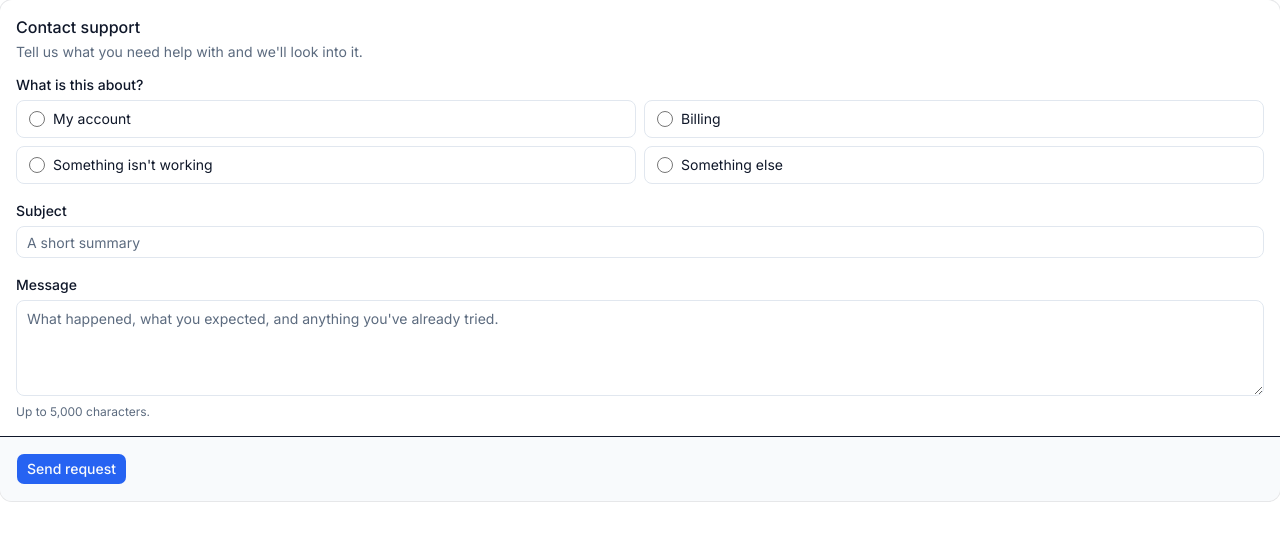
SupportRequestForm – validation errors from the server › moves focus to the field that needs fixing
Click the radio button labelled "Billing".
click(665, 119)  # box x1=657 y1=111 x2=673 y2=127
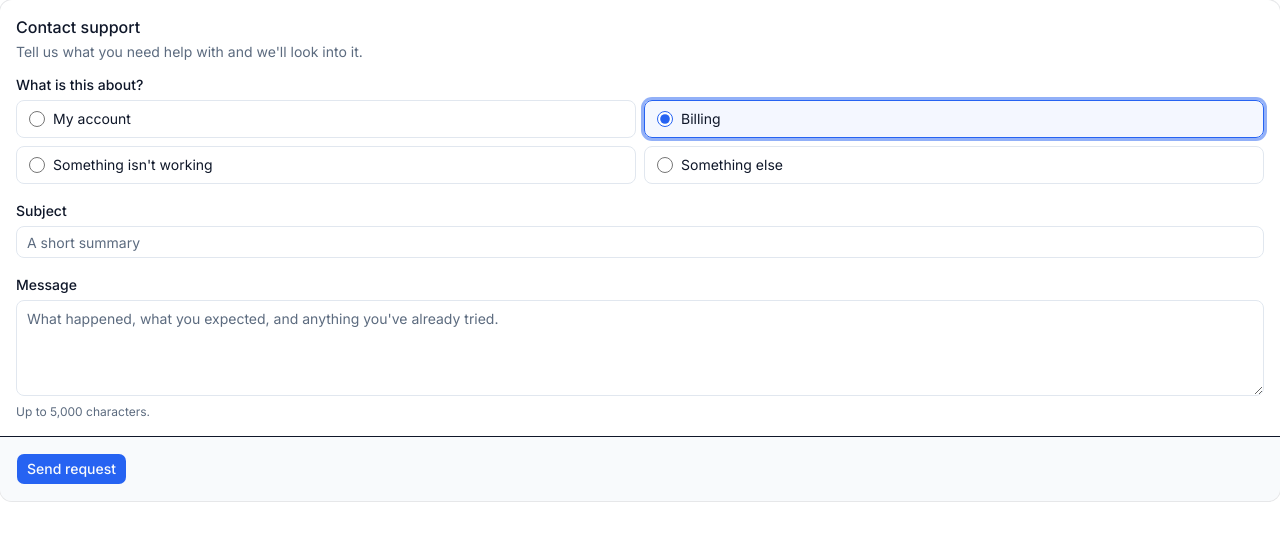
Type "Charged twice" into the field labelled "Subject".
click(640, 242); type("Charged twice")  # box x1=16 y1=226 x2=1264 y2=258
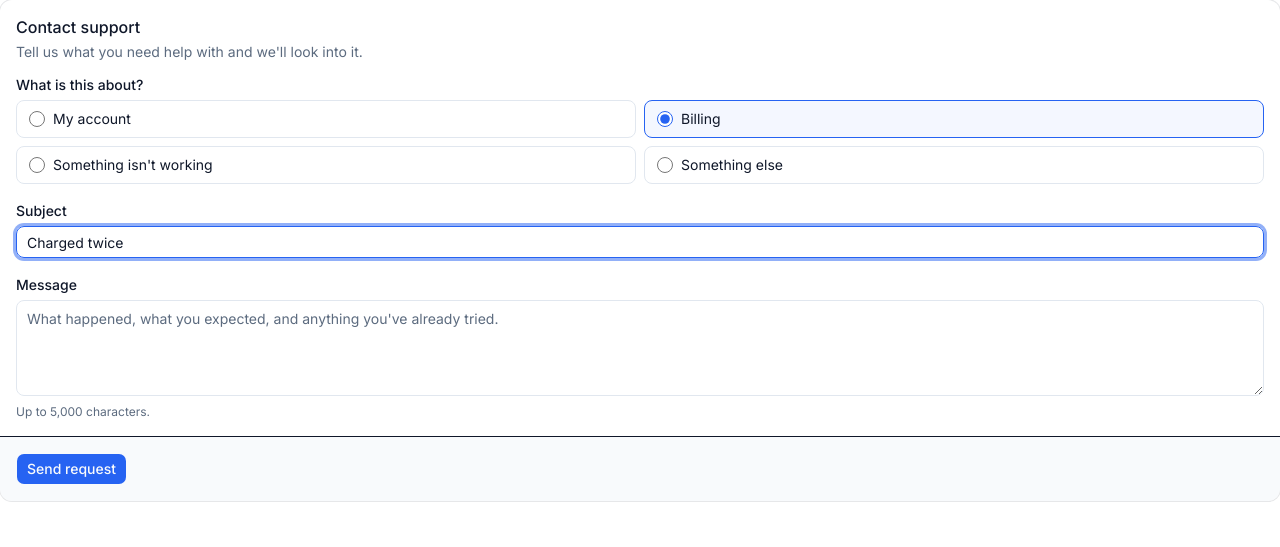
Replace the text in the text box labelled "Message" with "I see two charges." at [640, 348], box x1=16 y1=300 x2=1264 y2=396
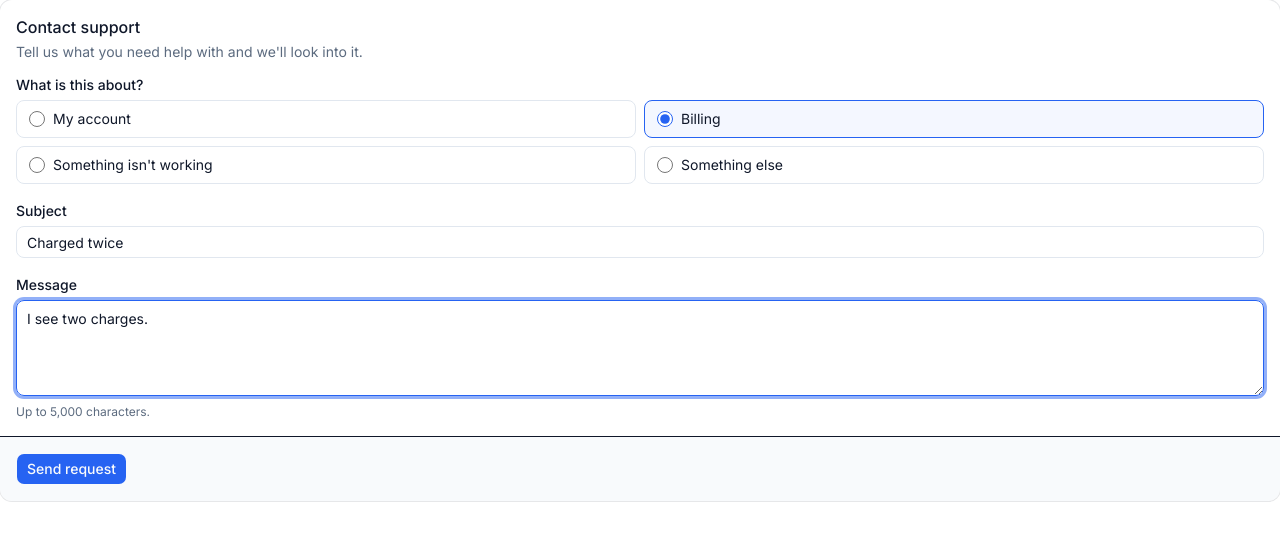
Click the button "Send request".
click(72, 469)  # box x1=16 y1=453 x2=127 y2=485
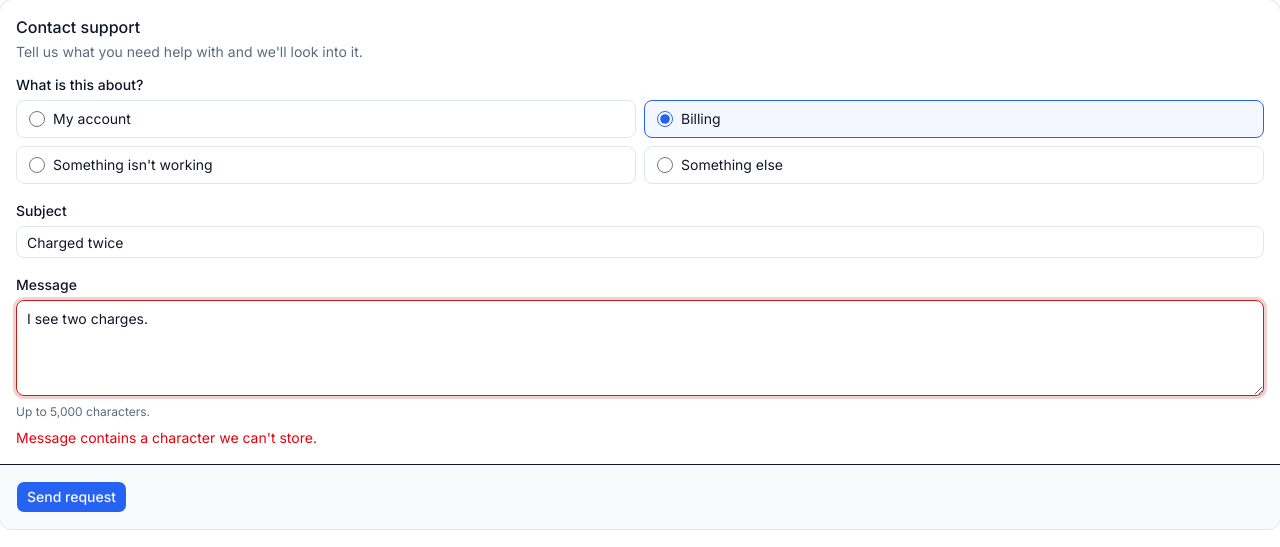
Now the message "Message contains a character we can't store." is shown, box x1=16 y1=429 x2=317 y2=446
